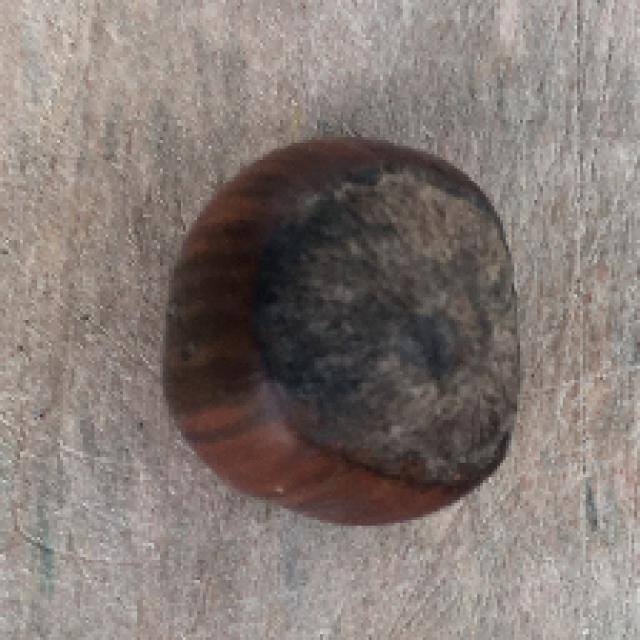damagedHazelnut: (156, 125, 522, 529)
